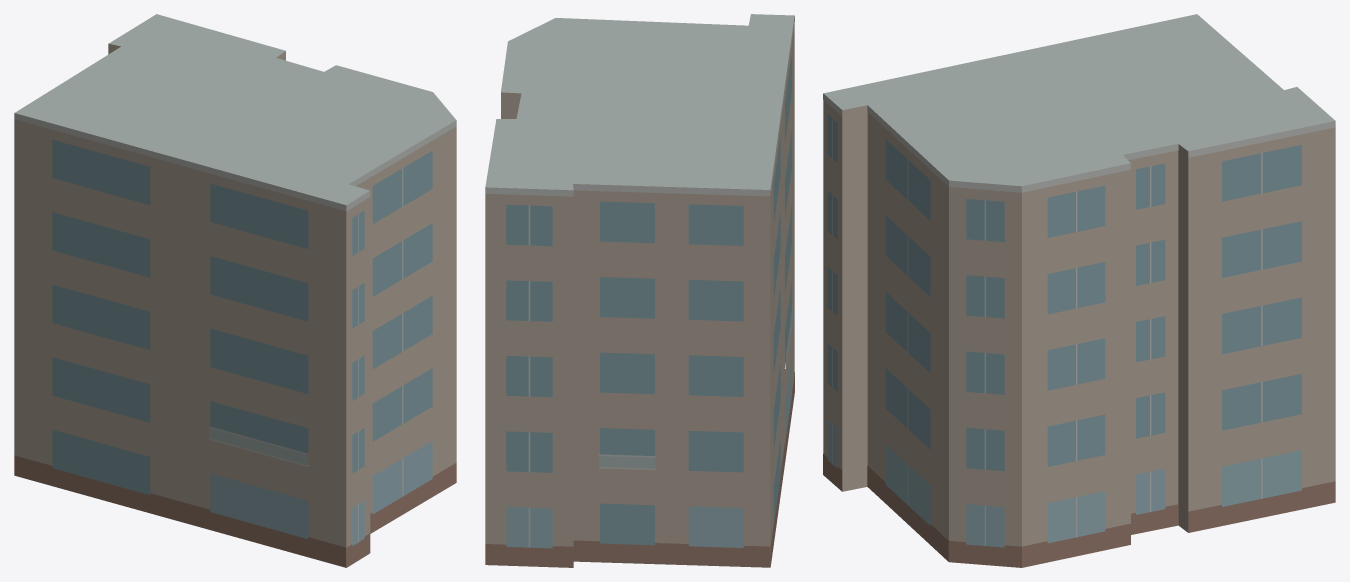
File: survey-upis-32708894.glb
3 renders of one model, left to right at view 1: azimuth 30°, elevation 25°; view 2: azimuth 150°, elevation 25°; view 3: azimuth 270°, elevation 25°, orthographic. The views are drawn at different scales.
Visible parts, largest first — view 1: survey-upis-32708894.tmp; view 2: survey-upis-32708894.tmp; view 3: survey-upis-32708894.tmp.
Boxes of the visible parts, x1=… form: survey-upis-32708894.tmp: x1=14, y1=14, x2=456, y2=567; survey-upis-32708894.tmp: x1=485, y1=14, x2=794, y2=567; survey-upis-32708894.tmp: x1=823, y1=14, x2=1335, y2=567.
Bounding box in the file's own units: 13.95 × 14.4 × 17.54.
